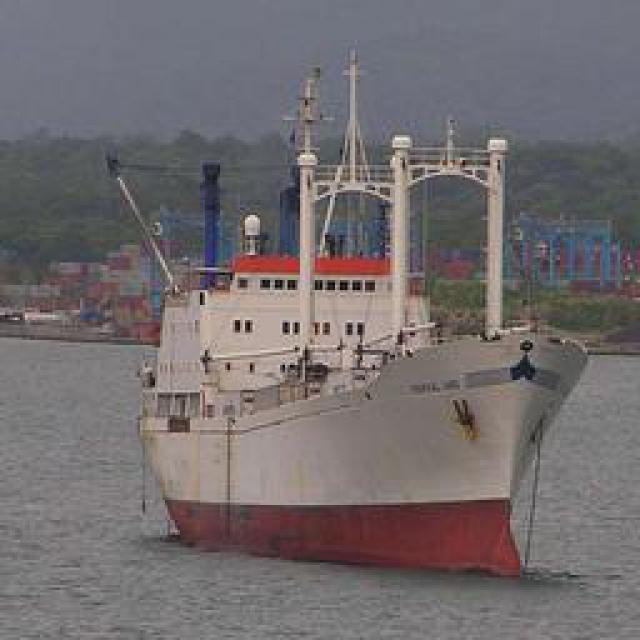Ship: (140, 149, 568, 574)
